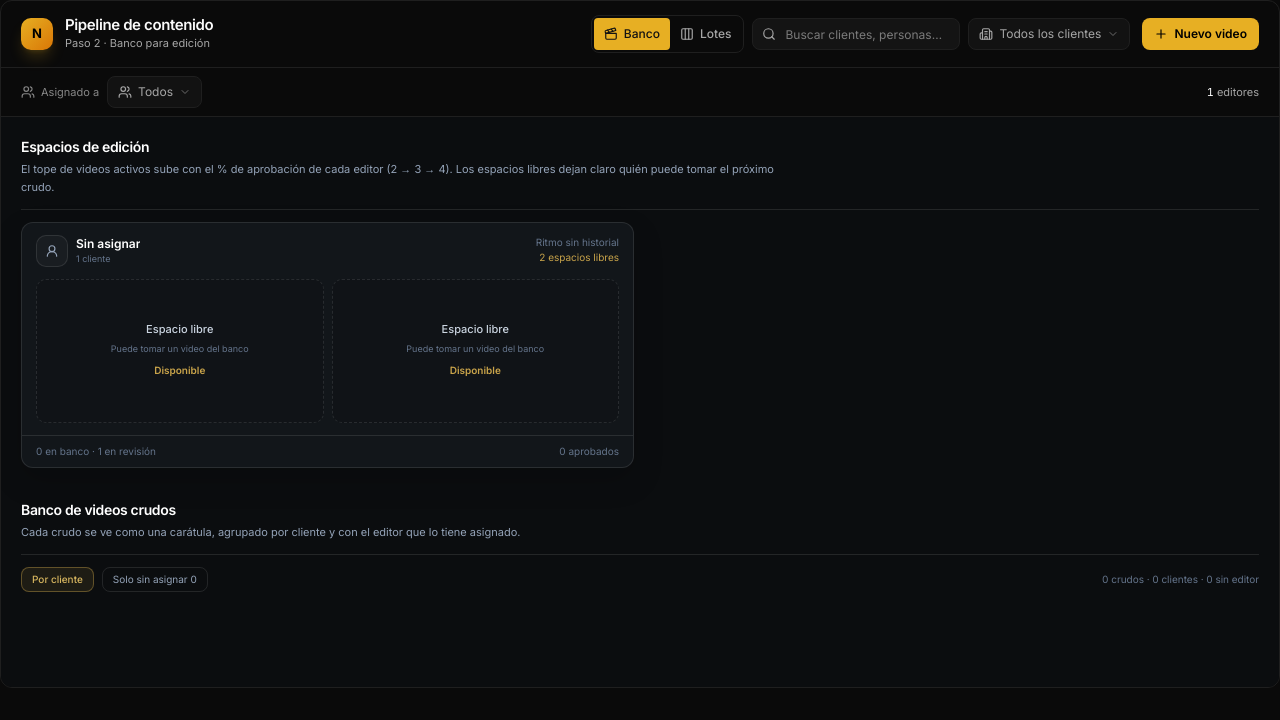
Test: ContentPipelineBoard — batch model › places the batch in the column of its least-advanced video
The image size is (1280, 720).
Click the button "Lotes". click: [706, 34]
box: [670,18,742,50]
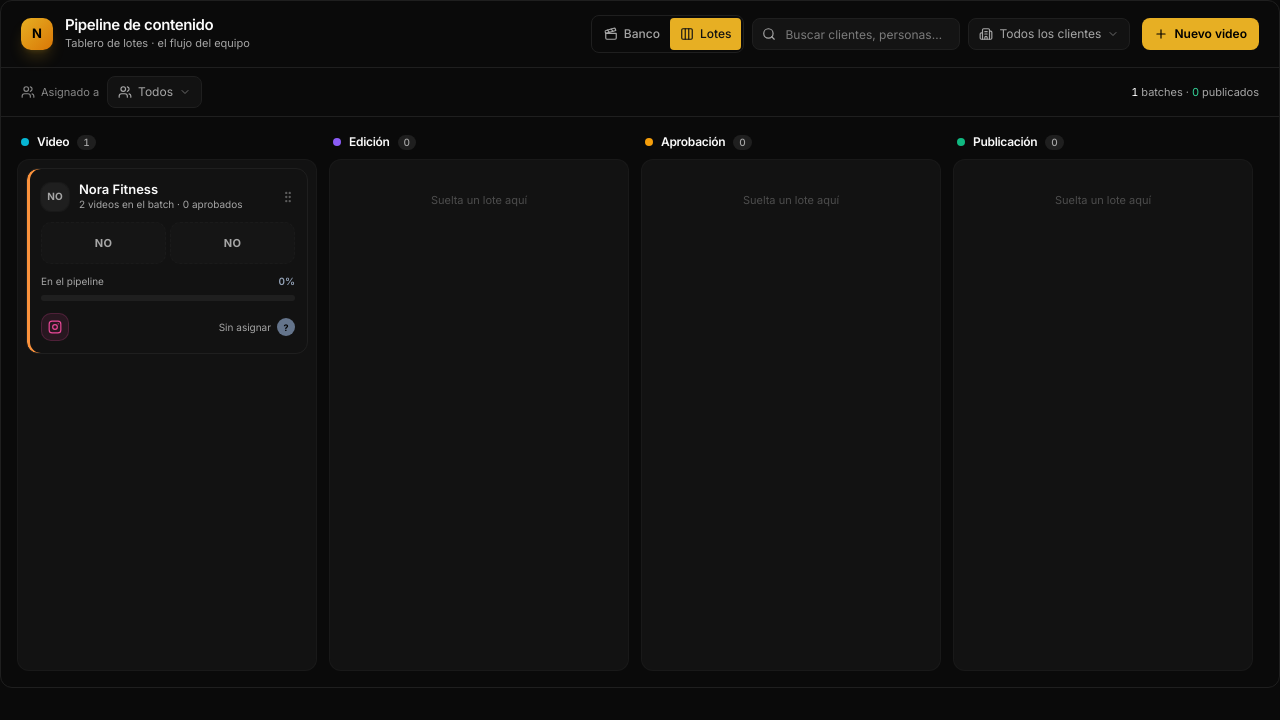
Expected: the element that starts with "Video" shows "Nora Fitness", [79,181,158,197]
